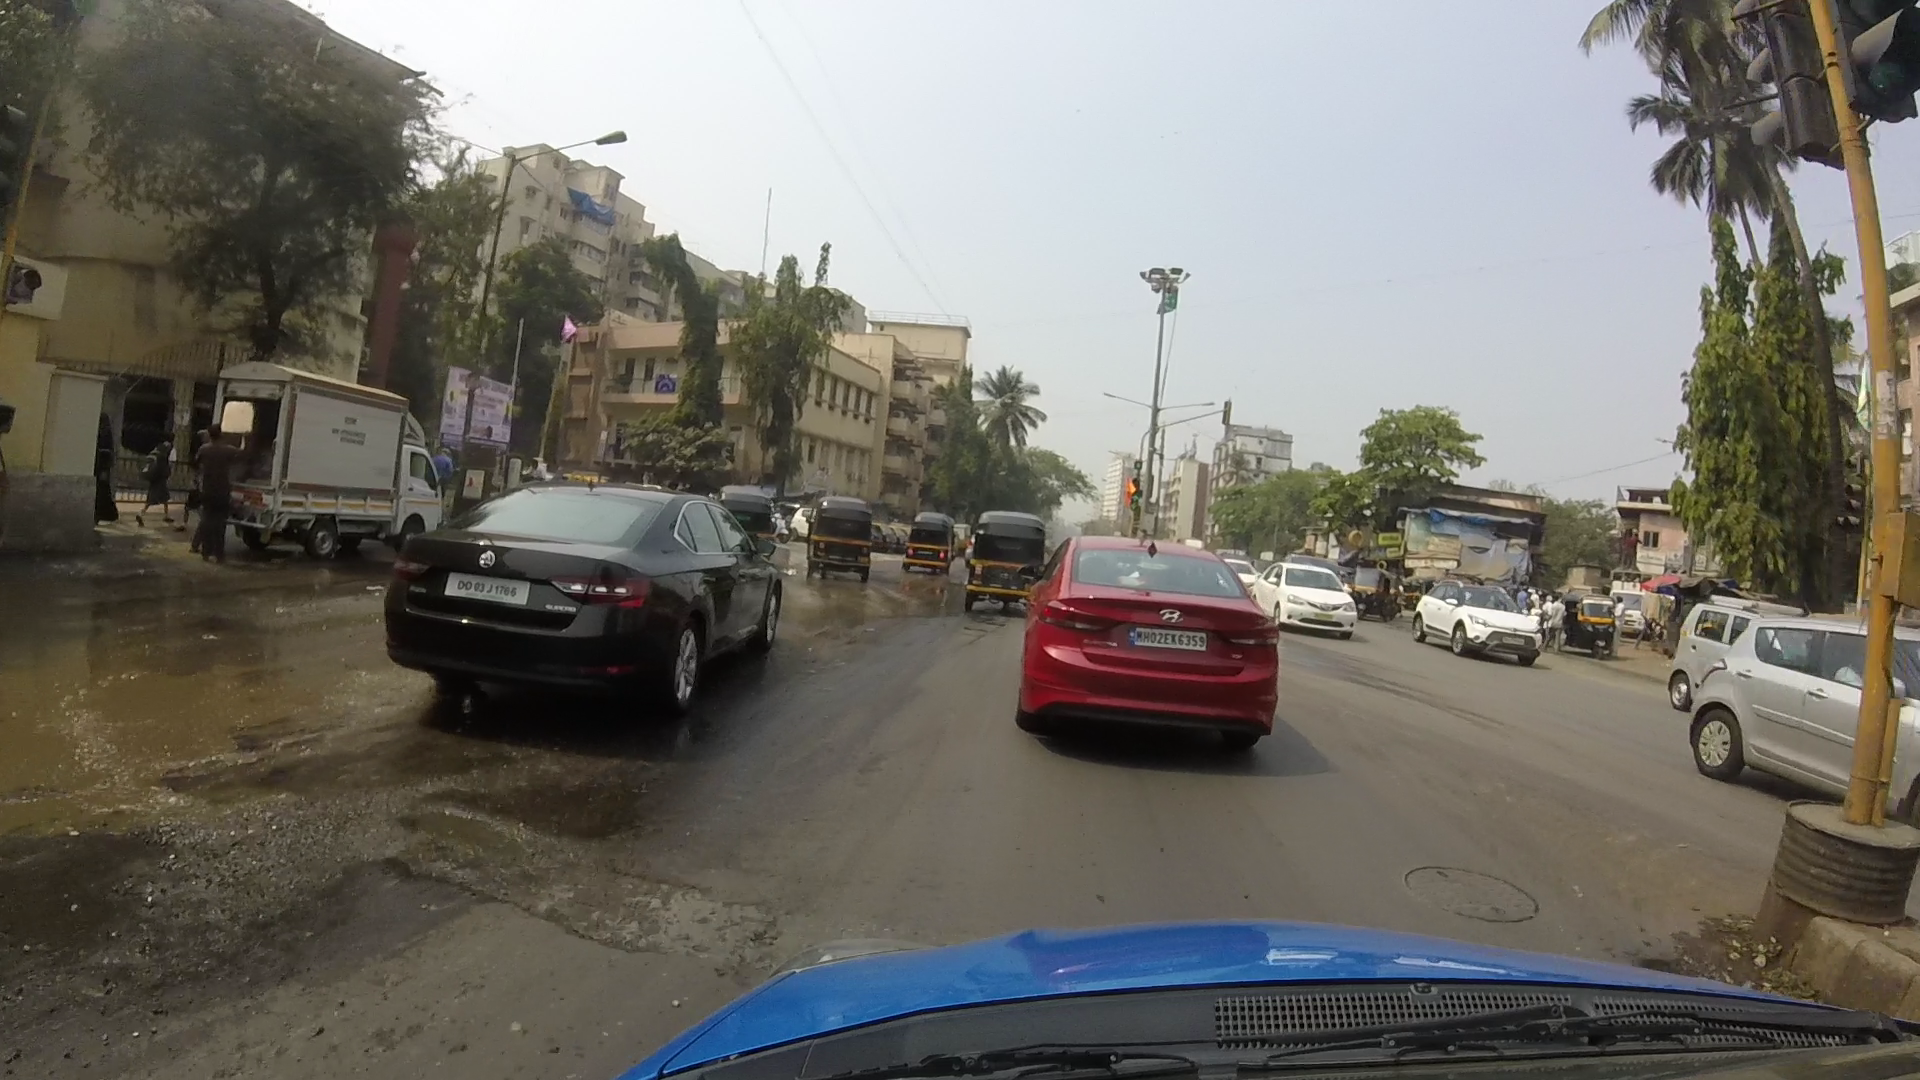car: (371, 440, 786, 748), (982, 513, 1309, 764), (1673, 611, 1920, 827), (1396, 555, 1568, 673), (1251, 551, 1379, 659)
rickshaw: (947, 483, 1051, 633), (800, 483, 893, 603)
truck: (190, 344, 460, 585)
